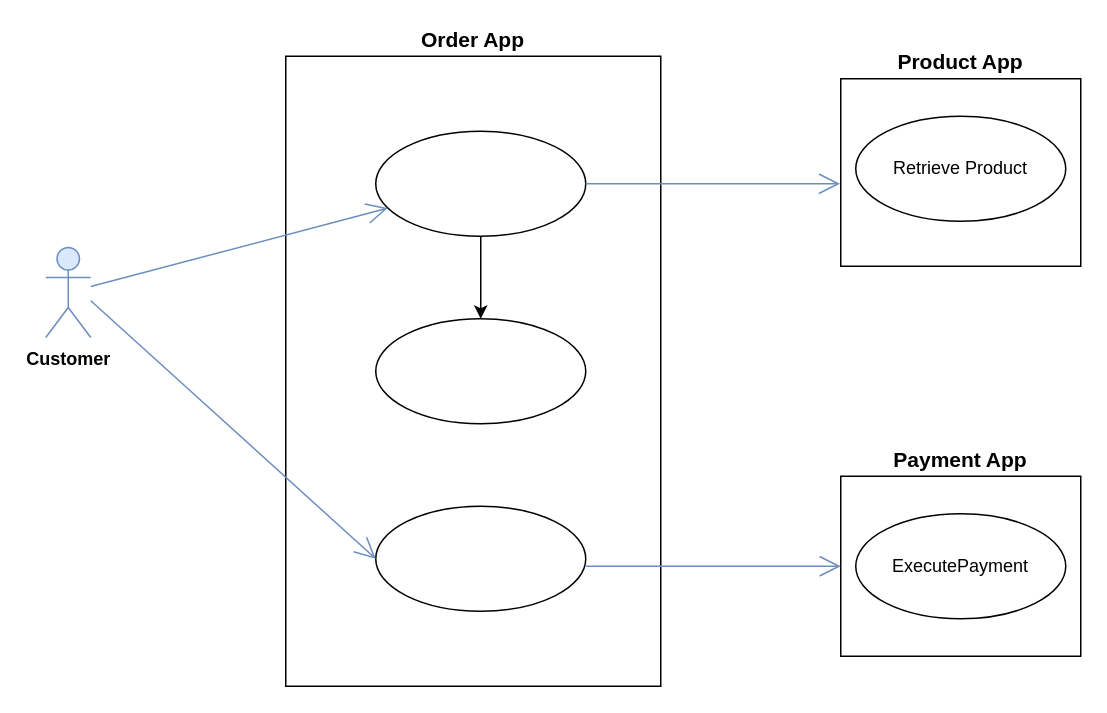
This 1107x713 diagram has some shape labels left out. Here are the shapes that lost their labels. From the top down, the centre of each, then its label:
point 480,183: Add Product
point 480,370: RetrieveCart Sumary
point 480,558: PayOrder
